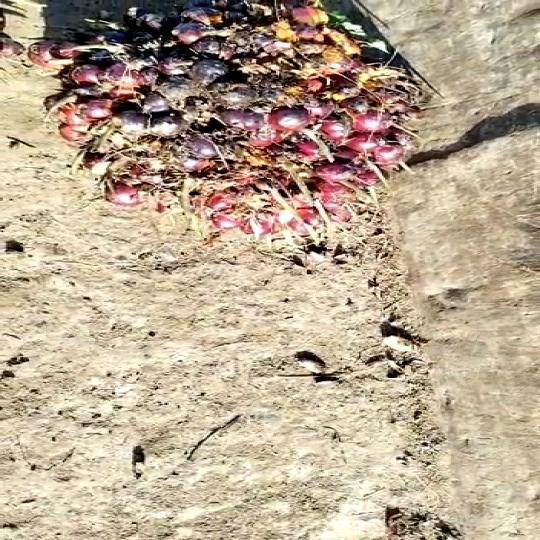masak: (40, 0, 448, 228)
